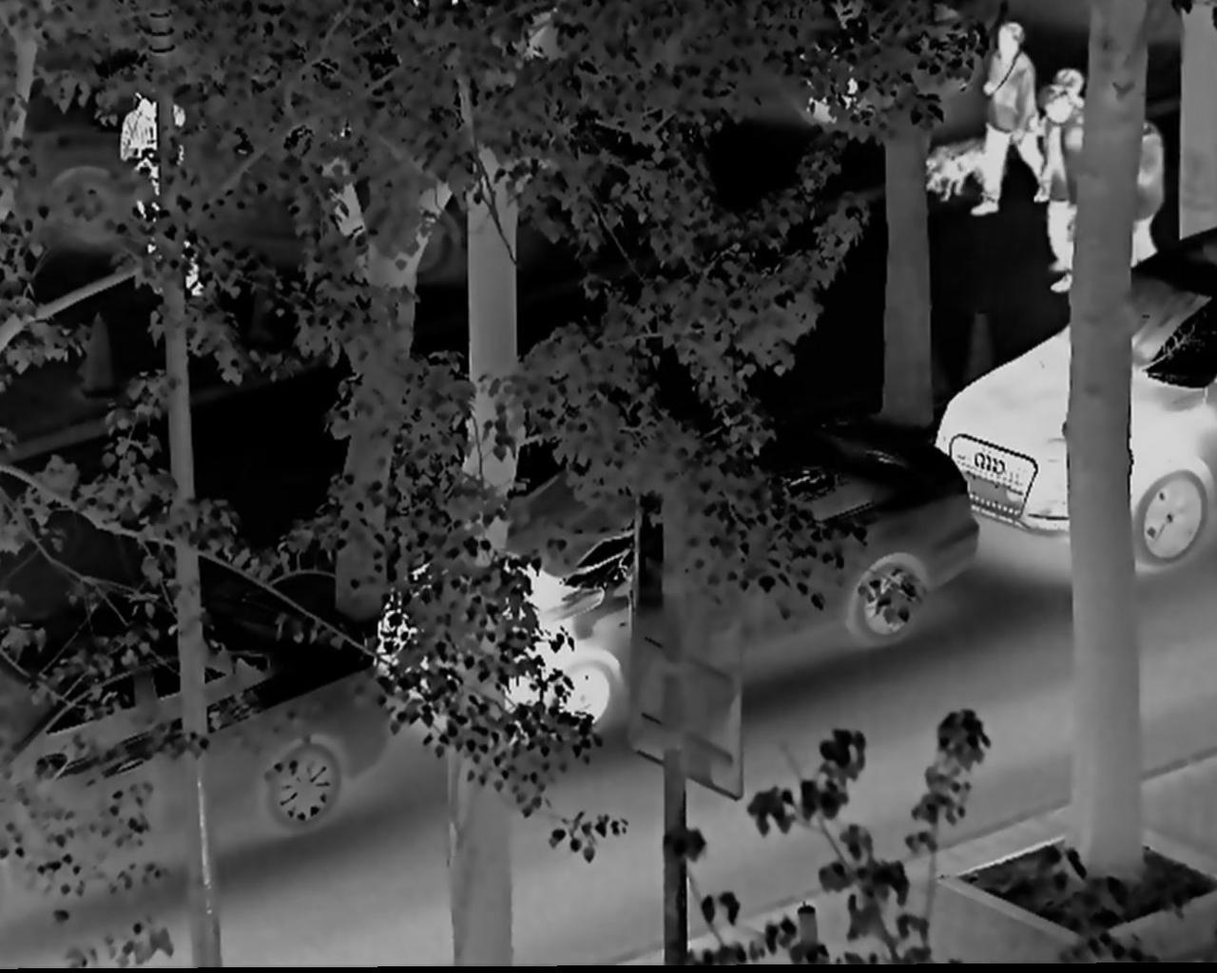person: (112, 87, 208, 310), (972, 18, 1048, 231), (1042, 68, 1095, 286), (1106, 90, 1166, 280)
